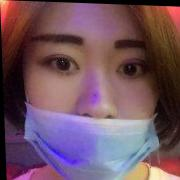WRONG: (23, 1, 166, 180)
